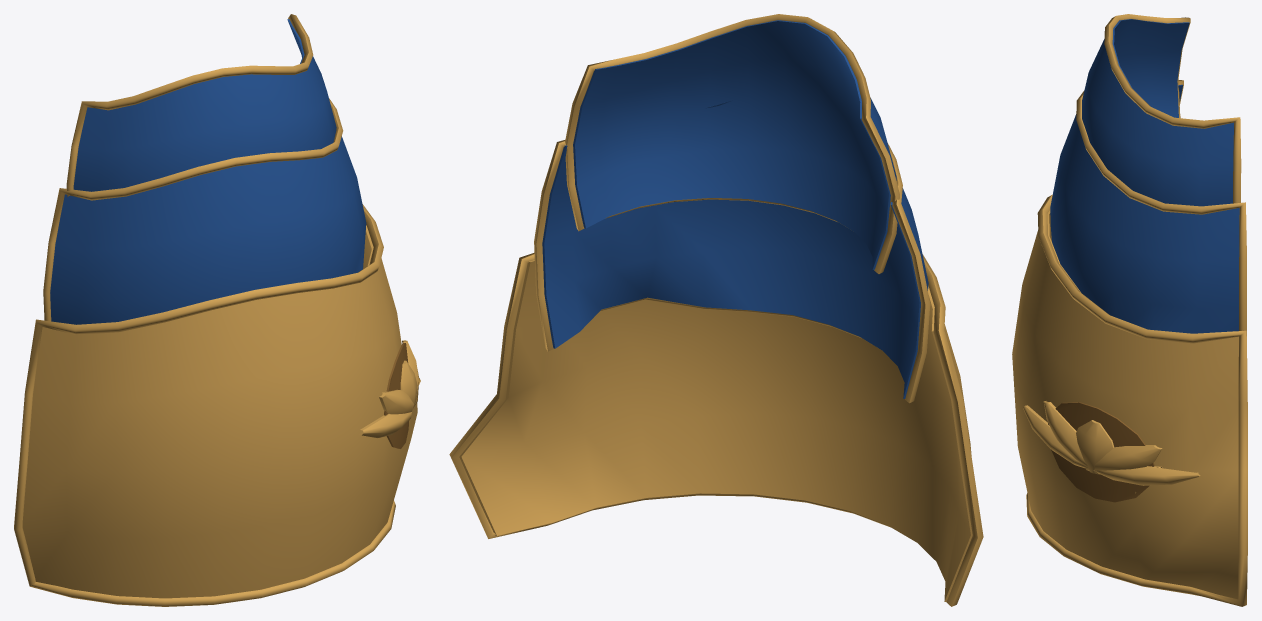
Rendered from shoulder-armour-far.glb.
3 views of the same model, side by side, from view 1: azimuth 30°, elevation 25°; view 2: azimuth 150°, elevation 25°; view 3: azimuth 270°, elevation 25° (orthographic). The views are drawn at different scales.
Parts seen in each view (by area): view 1: OriginalLeftShoulderArmour; view 2: OriginalLeftShoulderArmour; view 3: OriginalLeftShoulderArmour.
Part boxes in pixels (bbox=[...]): OriginalLeftShoulderArmour: bbox=[14, 14, 420, 606]; OriginalLeftShoulderArmour: bbox=[449, 14, 983, 606]; OriginalLeftShoulderArmour: bbox=[1012, 14, 1247, 606].
Bounding box in the file's own units: 0.2625 × 0.275 × 0.1236.
